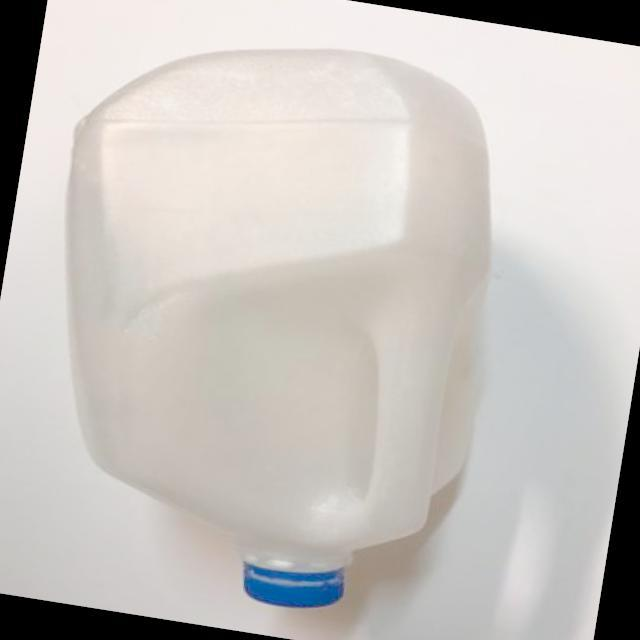HDPE Plastic: (66, 44, 494, 610)
